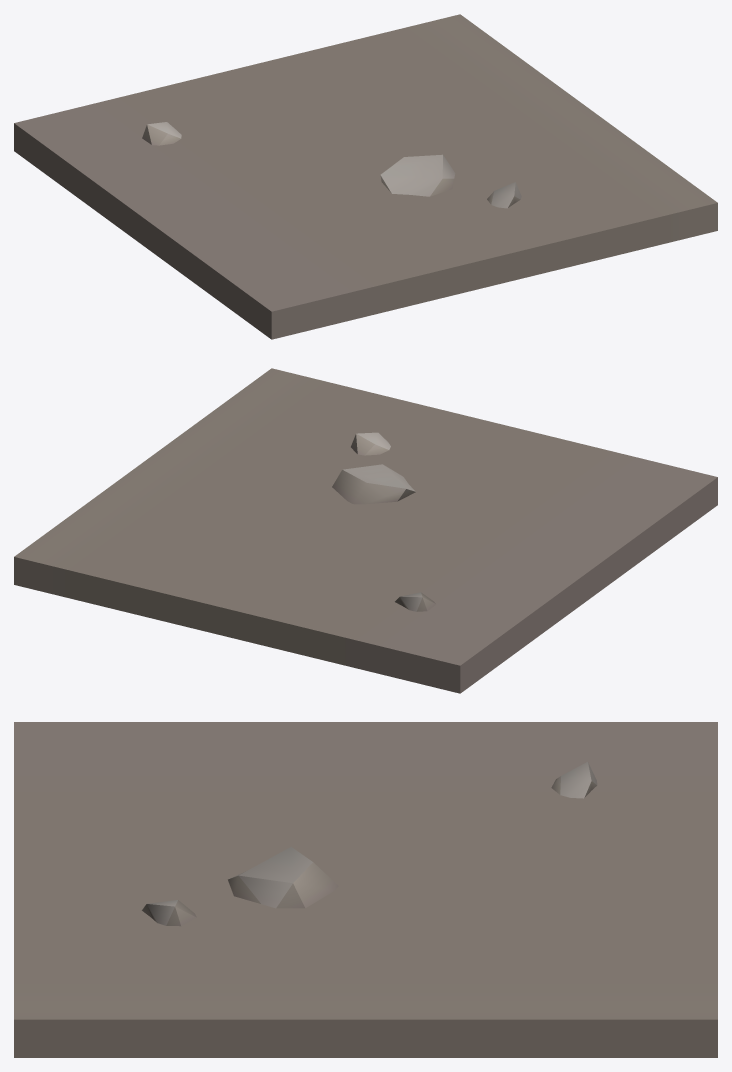
Rendered from b_donjon_sol_terre.glb.
3 renders of one model, top to bottom at view 1: azimuth 30°, elevation 25°; view 2: azimuth 150°, elevation 25°; view 3: azimuth 270°, elevation 25°, orthographic. The views are drawn at different scales.
Visible parts, largest first — view 1: b_donjon_sol_terre; view 2: b_donjon_sol_terre; view 3: b_donjon_sol_terre.
Part boxes in pixels (bbox=[...]): b_donjon_sol_terre: bbox=[14, 14, 717, 339]; b_donjon_sol_terre: bbox=[14, 368, 717, 693]; b_donjon_sol_terre: bbox=[14, 722, 717, 1057].
Bounding box in the file's own units: 2 × 0.1863 × 2.
1 material, 1 textured.
